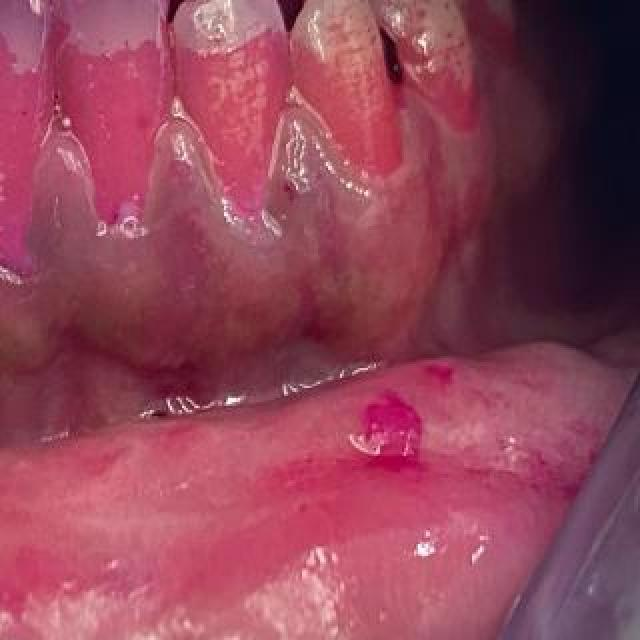cavities: (352, 0, 428, 130)
plaque: (54, 11, 173, 228), (169, 21, 291, 214), (294, 37, 403, 173), (0, 27, 54, 276), (381, 15, 478, 125), (457, 0, 521, 60), (327, 22, 348, 45), (402, 8, 426, 24), (444, 44, 462, 64), (363, 18, 373, 30), (457, 38, 467, 48), (445, 26, 454, 36), (191, 0, 202, 2), (368, 0, 370, 1)
